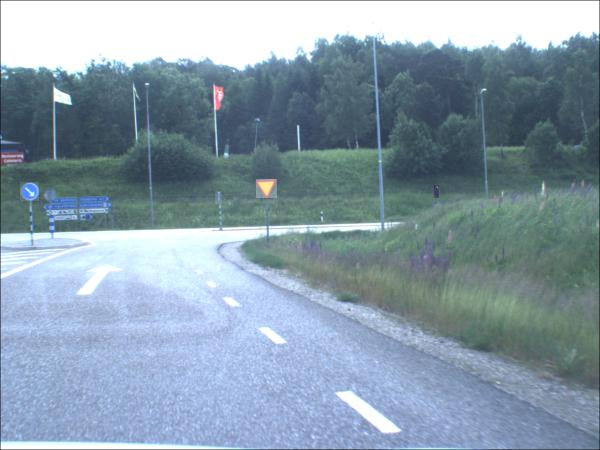GIVE_WAY: (257, 180, 279, 200)
NO_PARKING: (435, 186, 441, 200)
PASS_RIGHT_SIDE: (21, 183, 41, 203), (216, 192, 224, 206)
